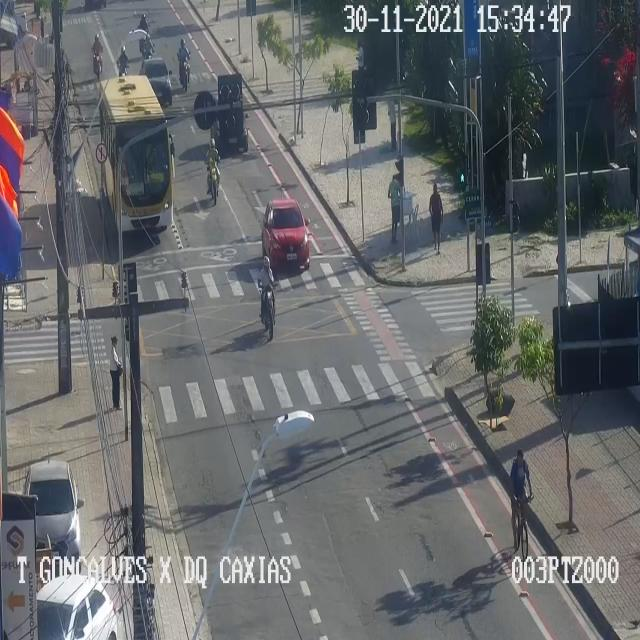Bus: (102, 73, 176, 230)
Car: (27, 458, 84, 556), (36, 574, 114, 639), (262, 196, 308, 268), (211, 101, 250, 154), (144, 61, 174, 111)
Motorcycle: (256, 250, 278, 340), (204, 134, 218, 200), (138, 12, 152, 63), (178, 39, 190, 94), (91, 36, 102, 78), (116, 45, 128, 75)
